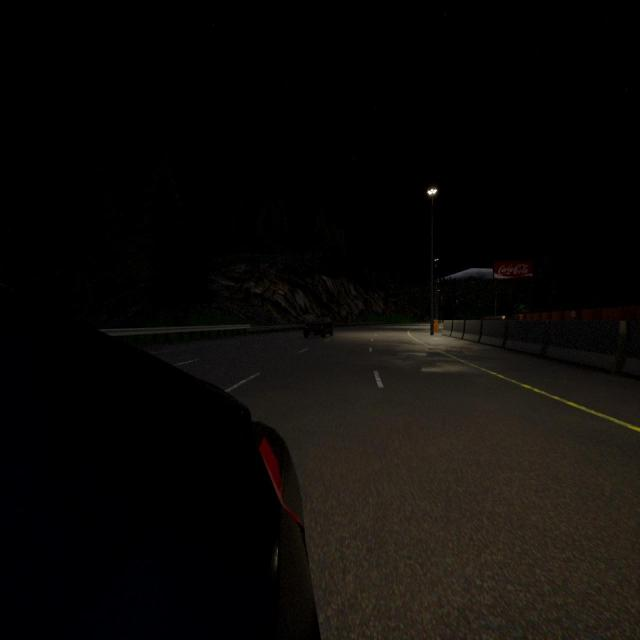Traffic_Signs: (570, 310, 576, 318), (502, 315, 506, 321)
Vehicle: (0, 289, 319, 640), (302, 315, 334, 339)
